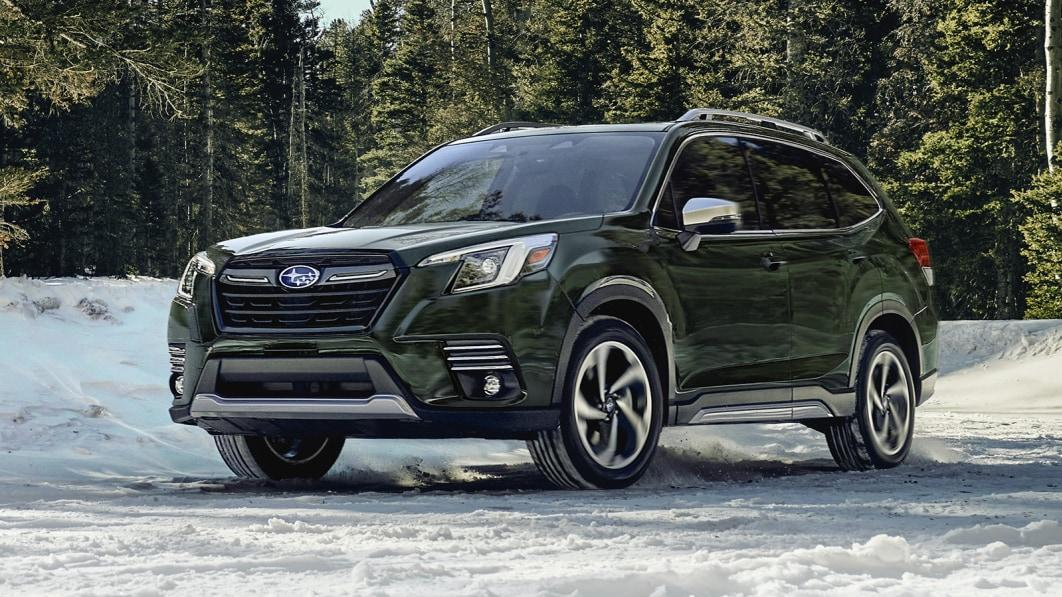subaru: (270, 255, 331, 292)
